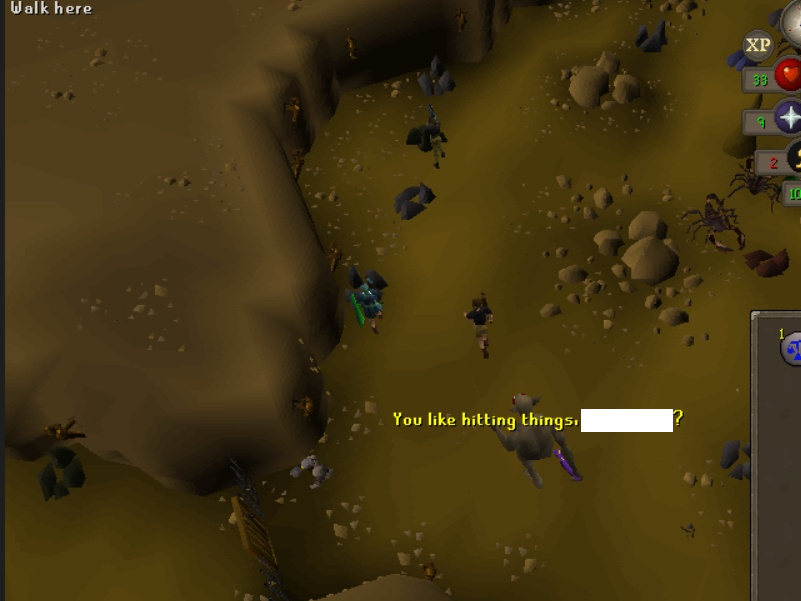coal: (33, 438, 92, 501), (405, 121, 457, 158)
iron: (743, 236, 796, 284)
mithril: (724, 40, 763, 76)
